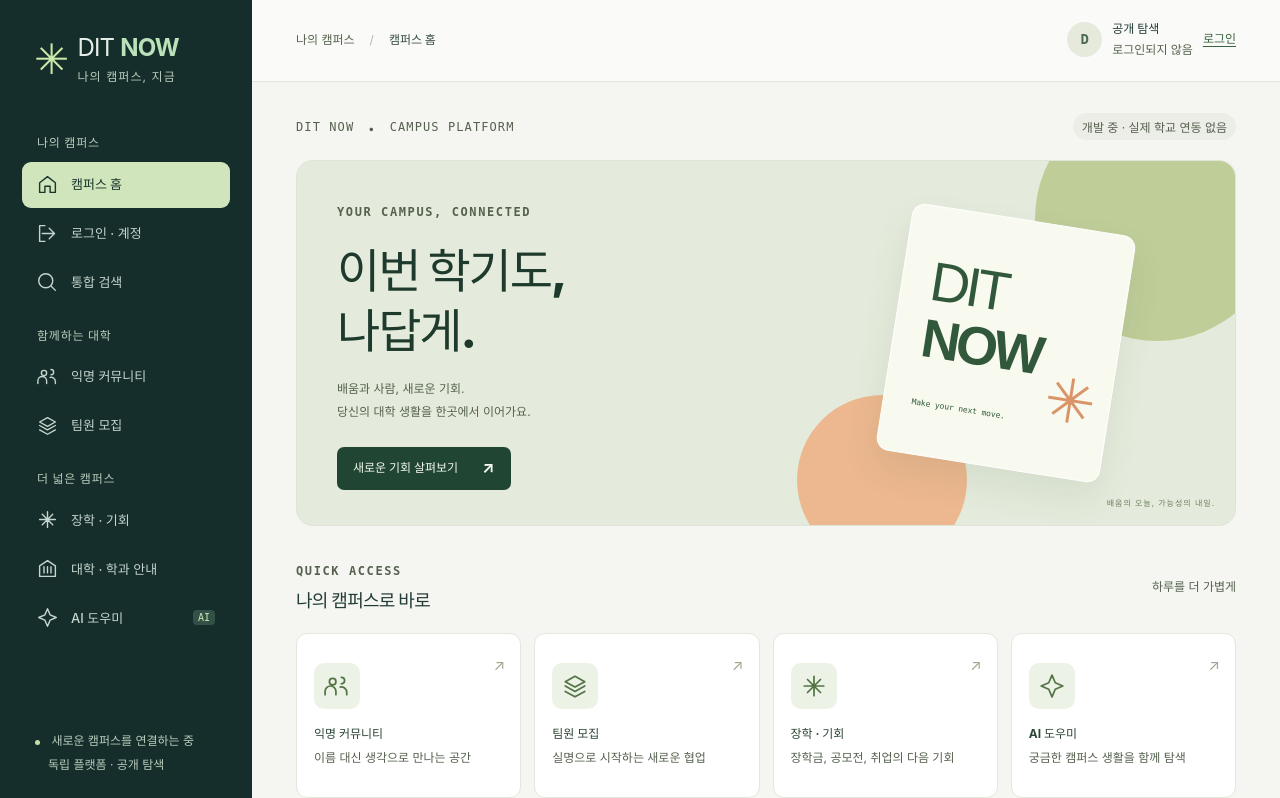
Test: new application authenticated P0 integration (fetch test double only) › clears all private data on current 401
Click the link "로그인 · 계정" at (89, 234), box [37,223,142,244]
(page scrolled)
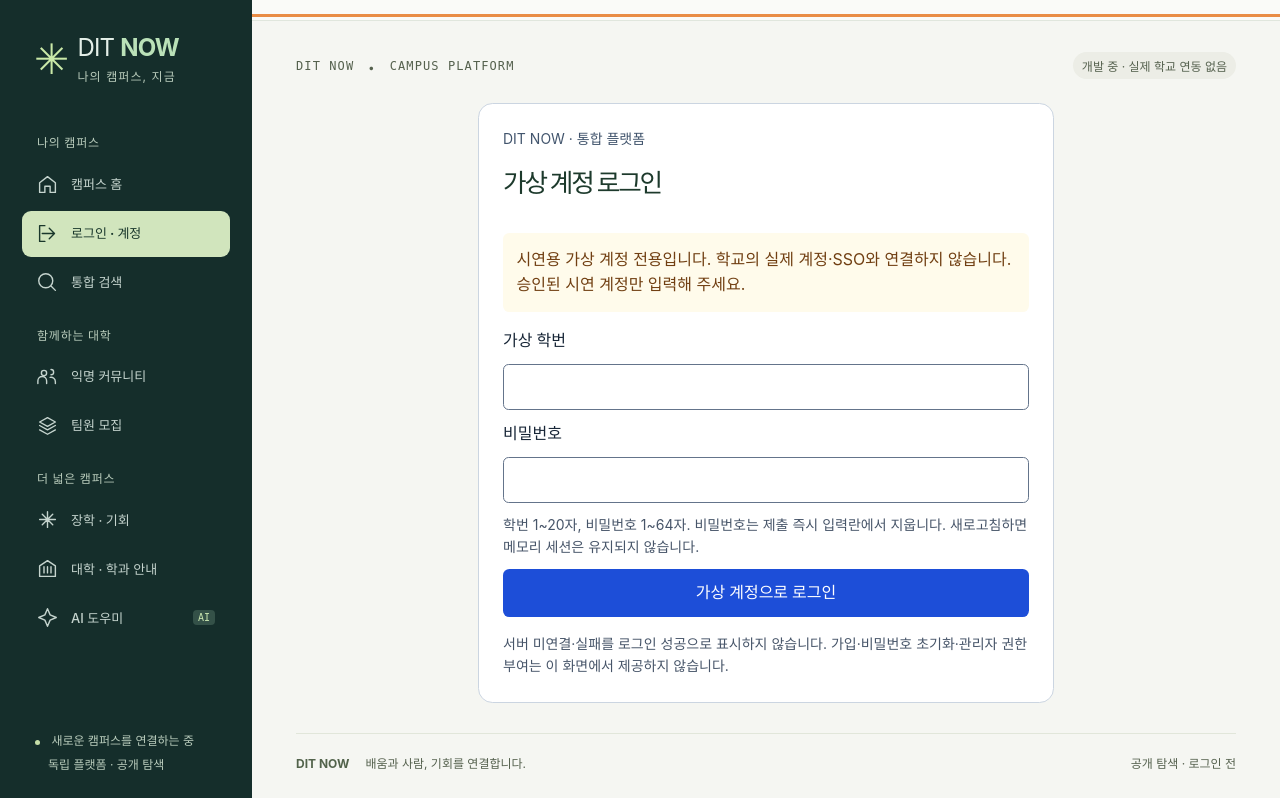
Type "fakeA" into the field labelled "가상 학번" at (766, 387), box [503,364,1029,410]
Type "synthetic-password" into the password field labelled "비밀번호" at (766, 480), box [503,457,1029,504]
Click the button "가상 계정으로 로그인" at (766, 593), box [503,569,1029,617]
(page scrolled)
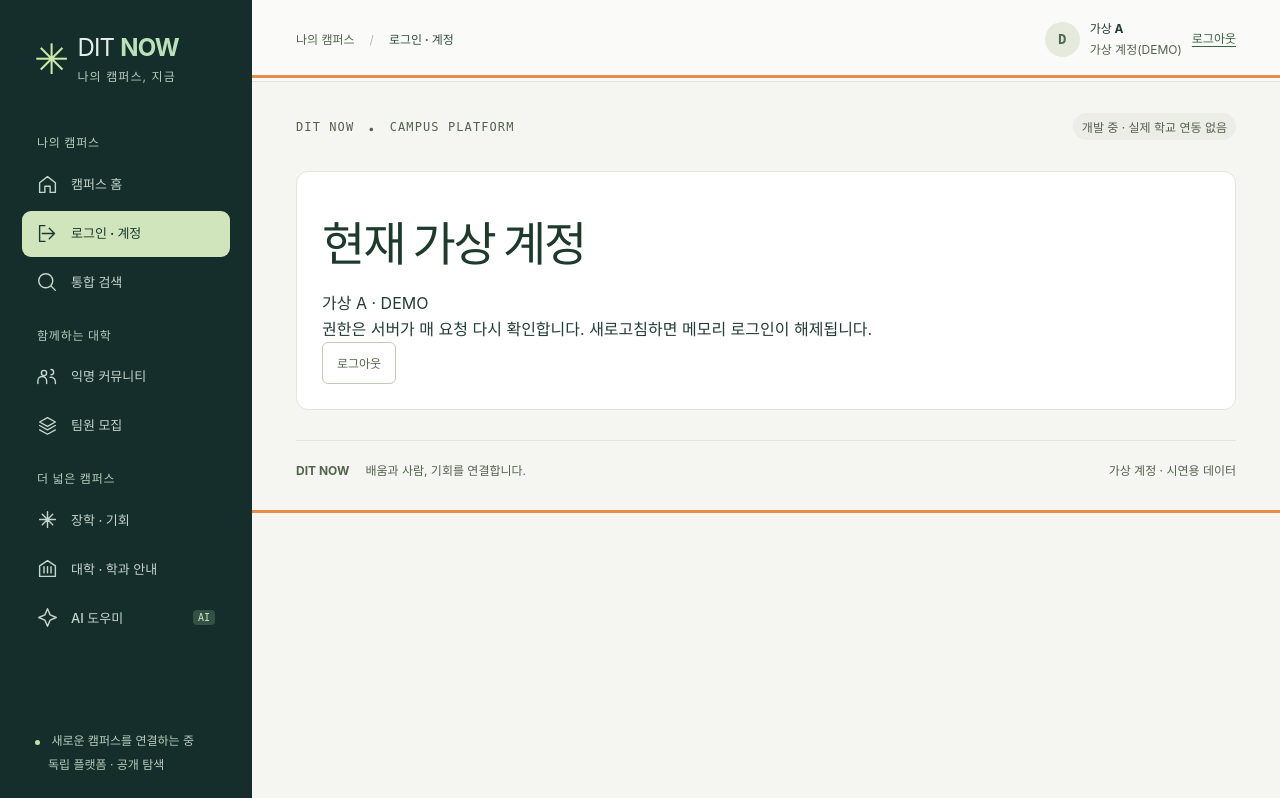
Expected: the heading "현재 가상 계정" is shown, [322,215,585,272]
Click the link "익명 커뮤니티" at (92, 377), box [37,366,146,387]
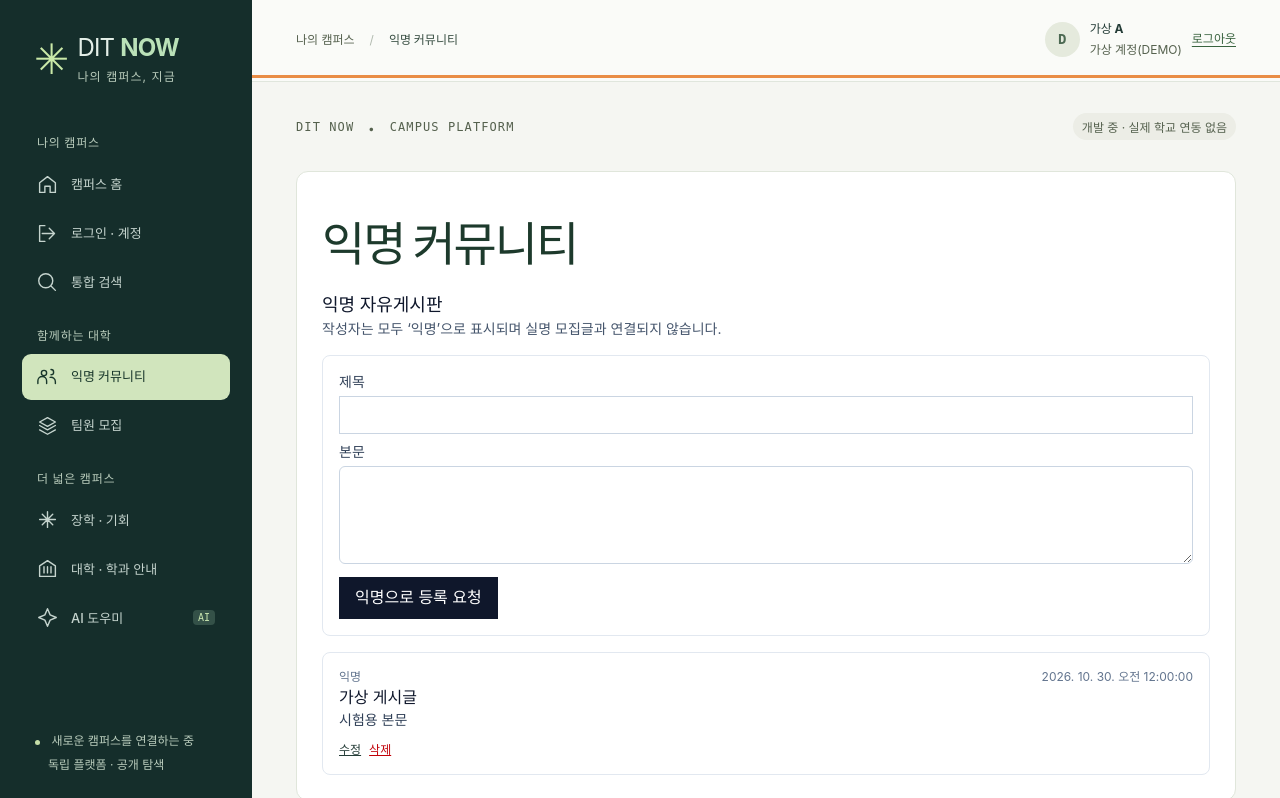
Expected: the text "시험용 본문" is shown, [339,711,407,728]
Type "비공개 초안" into the field labelled "제목" at (766, 415), box [339,396,1193,434]
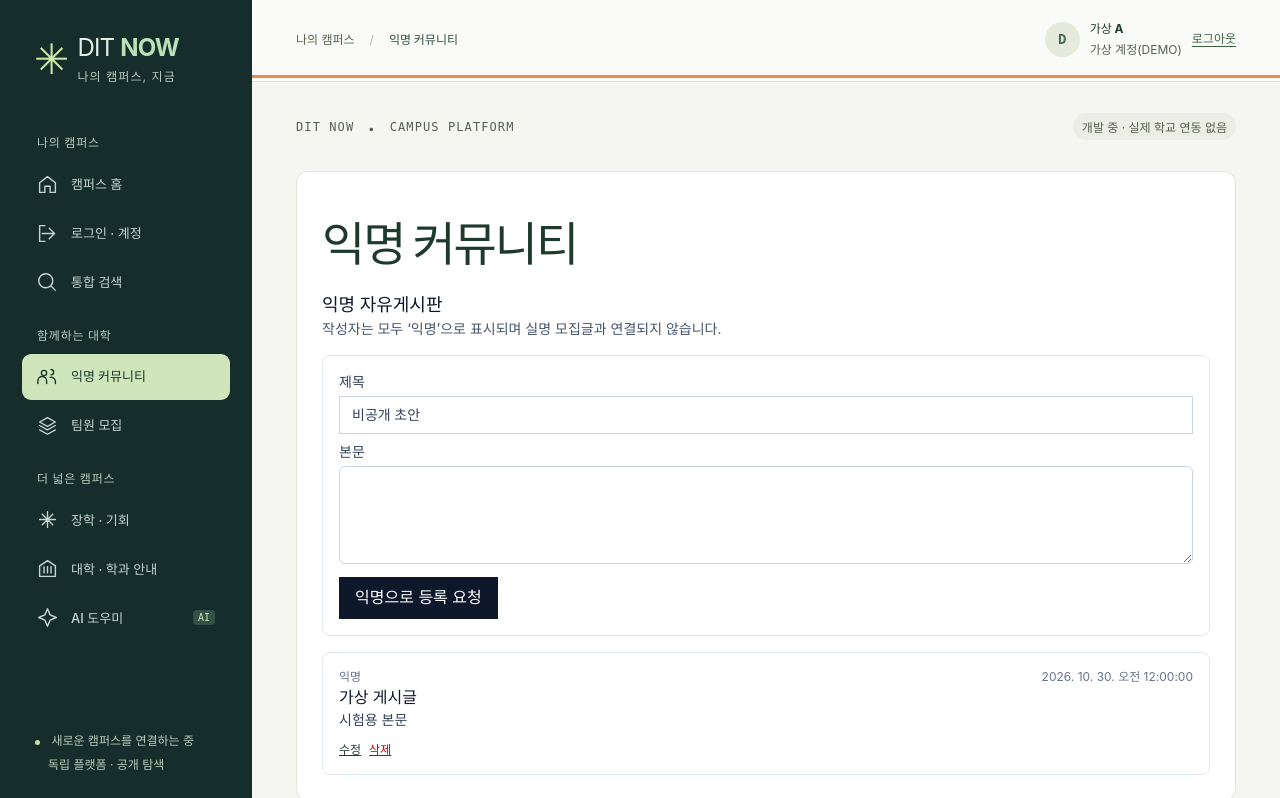
Type "폐기할 초안" into the text box labelled "본문" at (766, 515), box [339,466,1193,564]
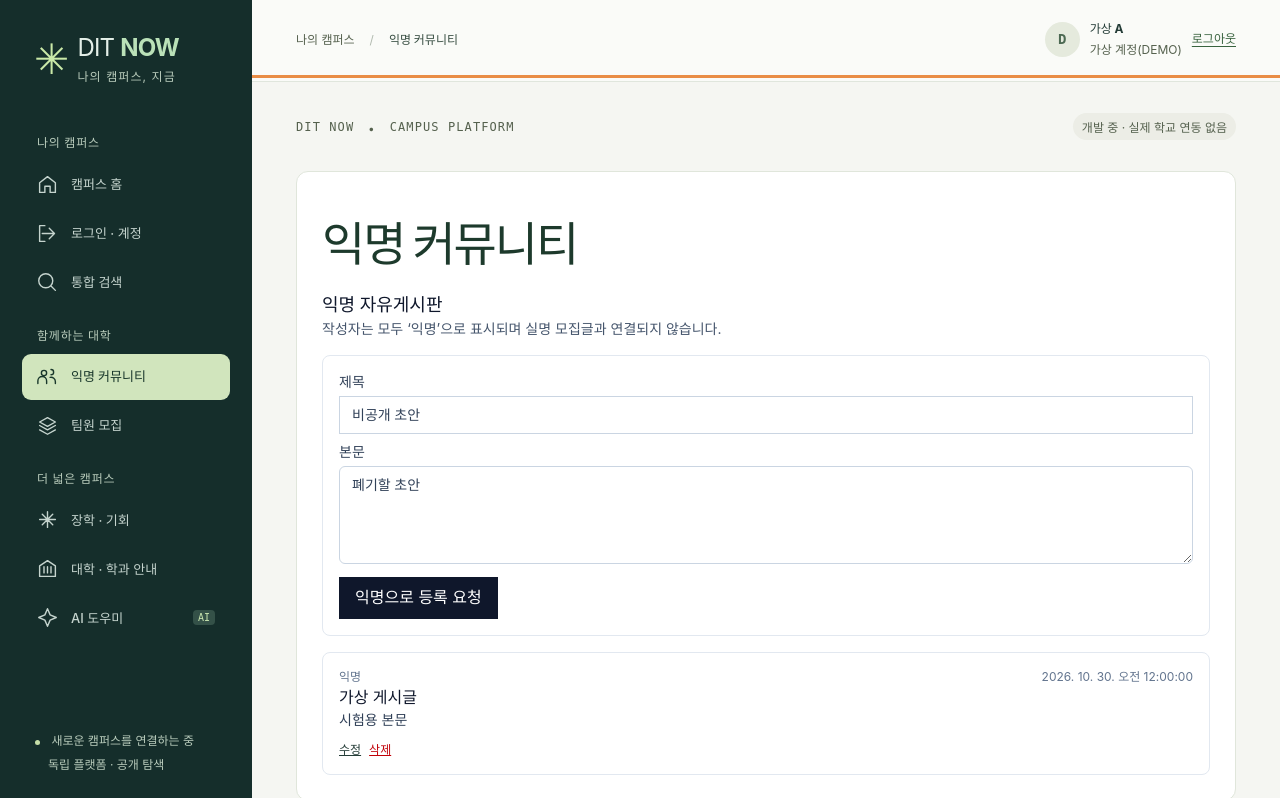
Click the button "익명으로 등록 요청" at (418, 598), box [339,577,498,619]
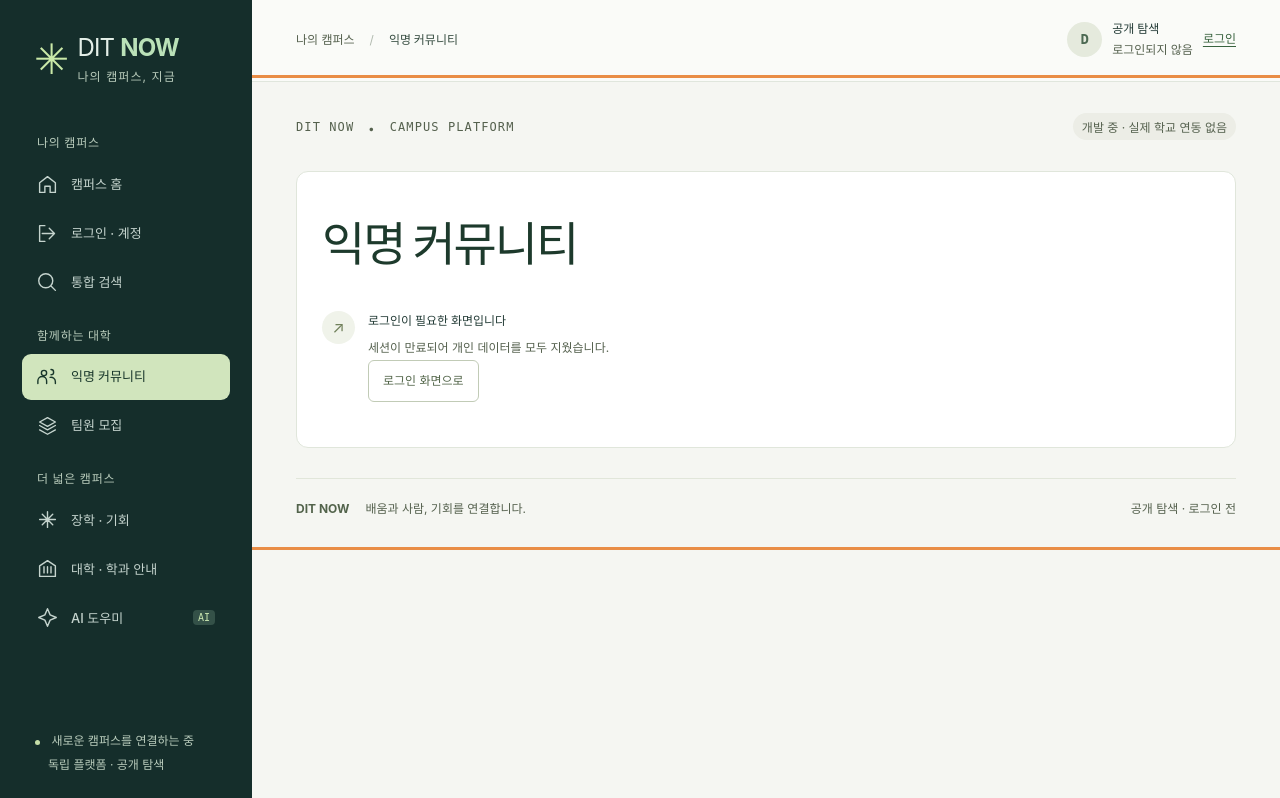
Expected: the text "로그인이 필요한 화면입니다" is shown, [368,313,506,328]
Expected: the text "시험용 본문" is gone
Expected: the text "로그인되지 않음" is shown, [1112,42,1193,58]
